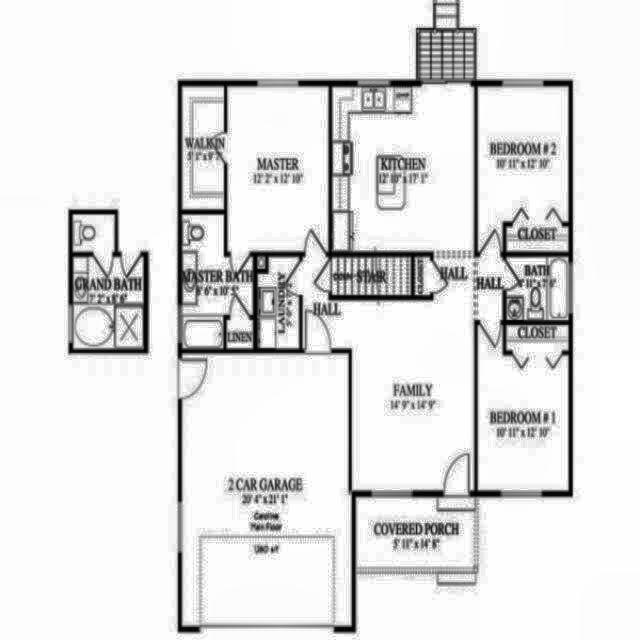room: (181, 354, 351, 625), (303, 257, 474, 489), (332, 88, 474, 251), (227, 86, 329, 251), (477, 325, 568, 489), (478, 87, 567, 251), (71, 215, 144, 349), (182, 215, 253, 347), (182, 86, 224, 209), (507, 257, 569, 320), (257, 257, 299, 349), (478, 257, 503, 320), (225, 320, 254, 348)
